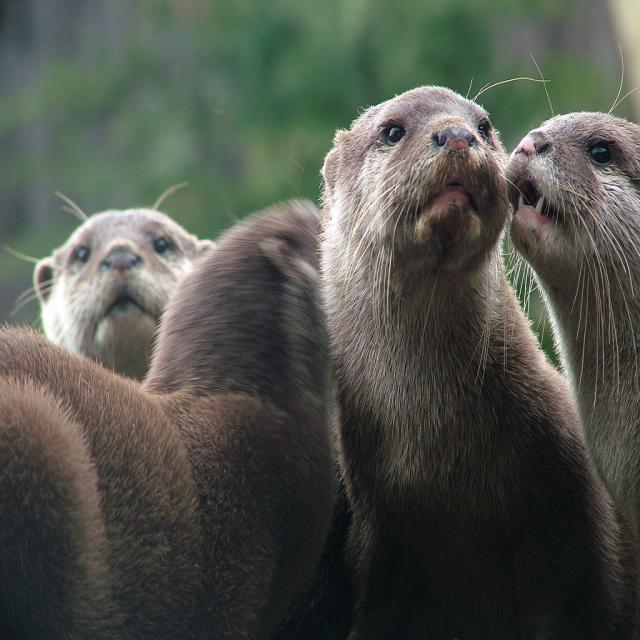otter: (322, 86, 634, 640), (1, 202, 333, 640), (510, 116, 640, 541), (34, 211, 220, 385)
